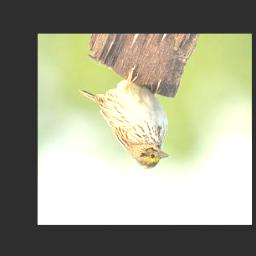Sparrow: (79, 66, 172, 171)
